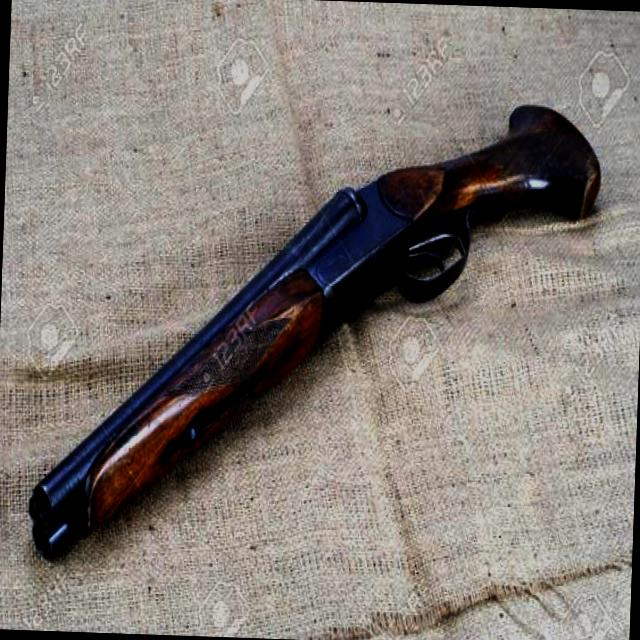shotgun: (22, 84, 610, 591)
